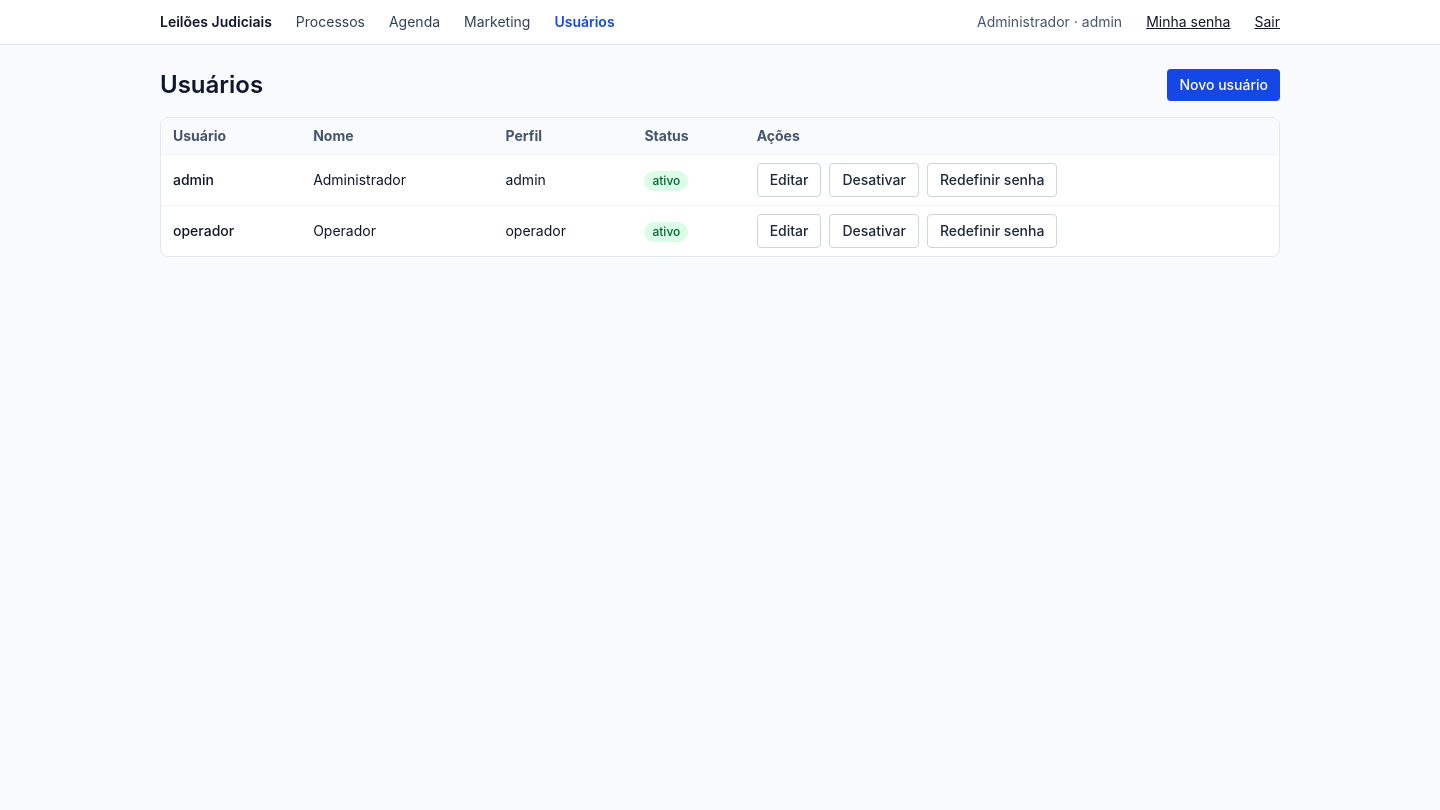
Test: UsuariosPage › senha curta bloqueia o submit do novo usuário
Click the button "Novo usuário": x=1224, y=85 [1167,69,1280,101]
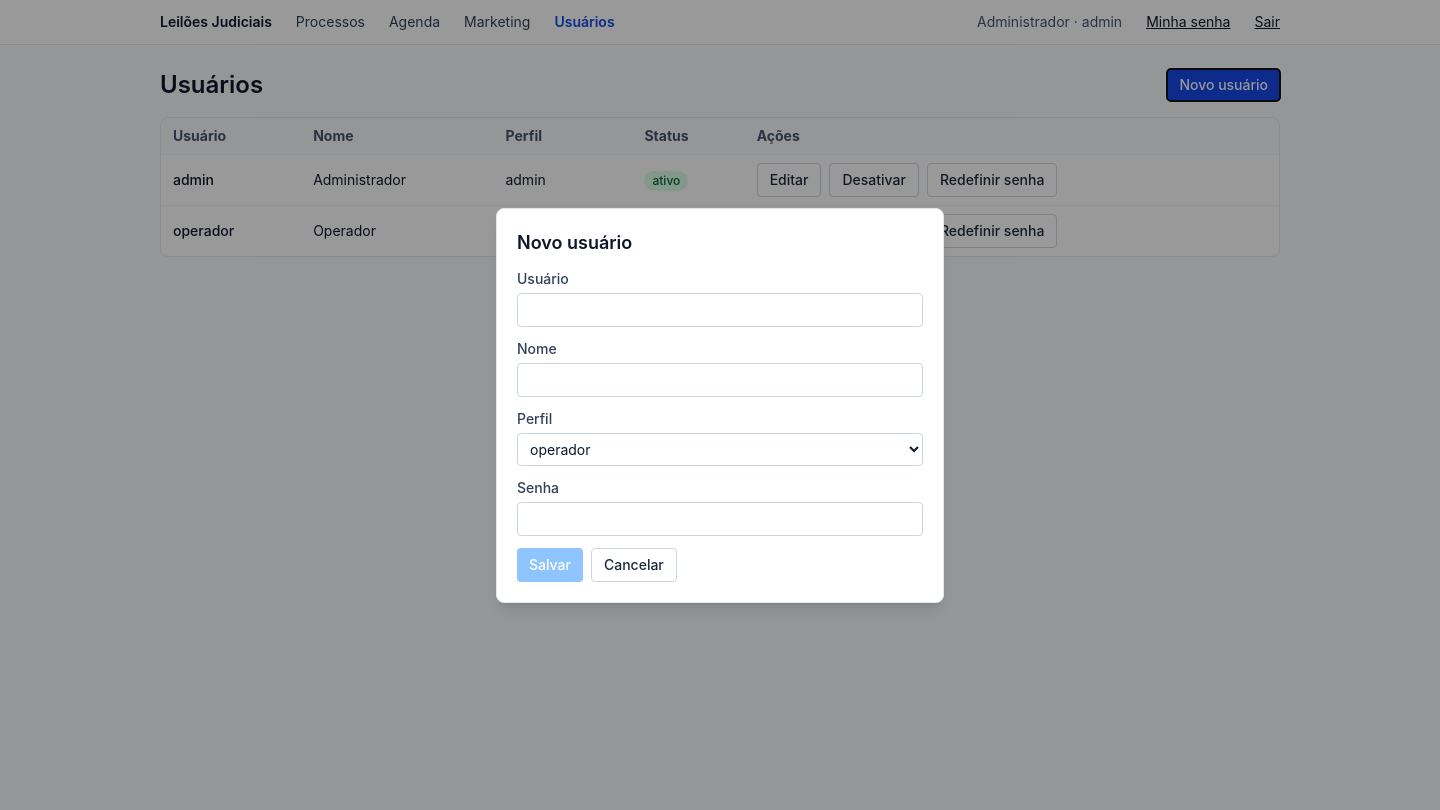
In the field labelled "Usuário": x=720, y=310 [517,292,923,326], type "joao"
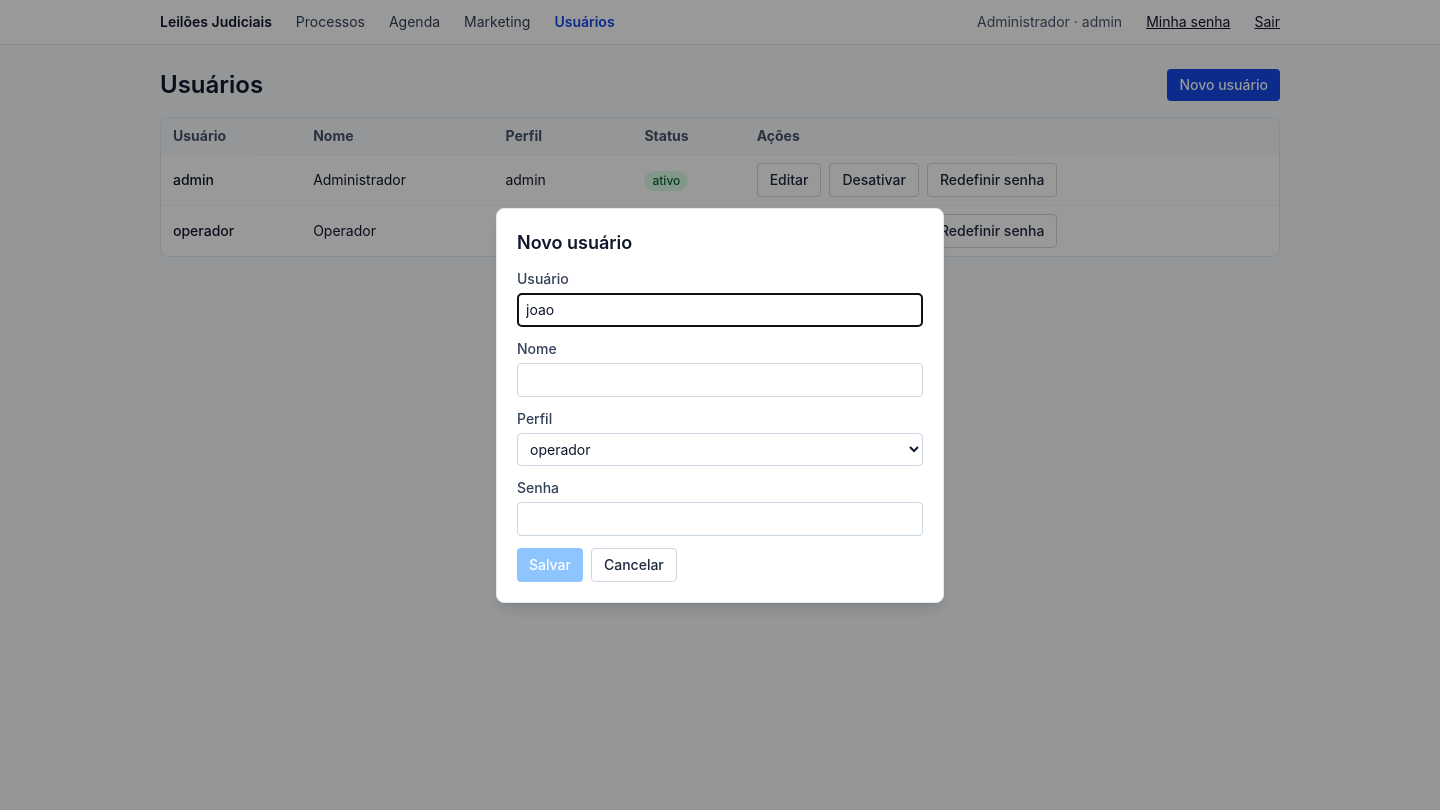
In the field labelled "Nome": x=720, y=380 [517,362,923,396], type "João"
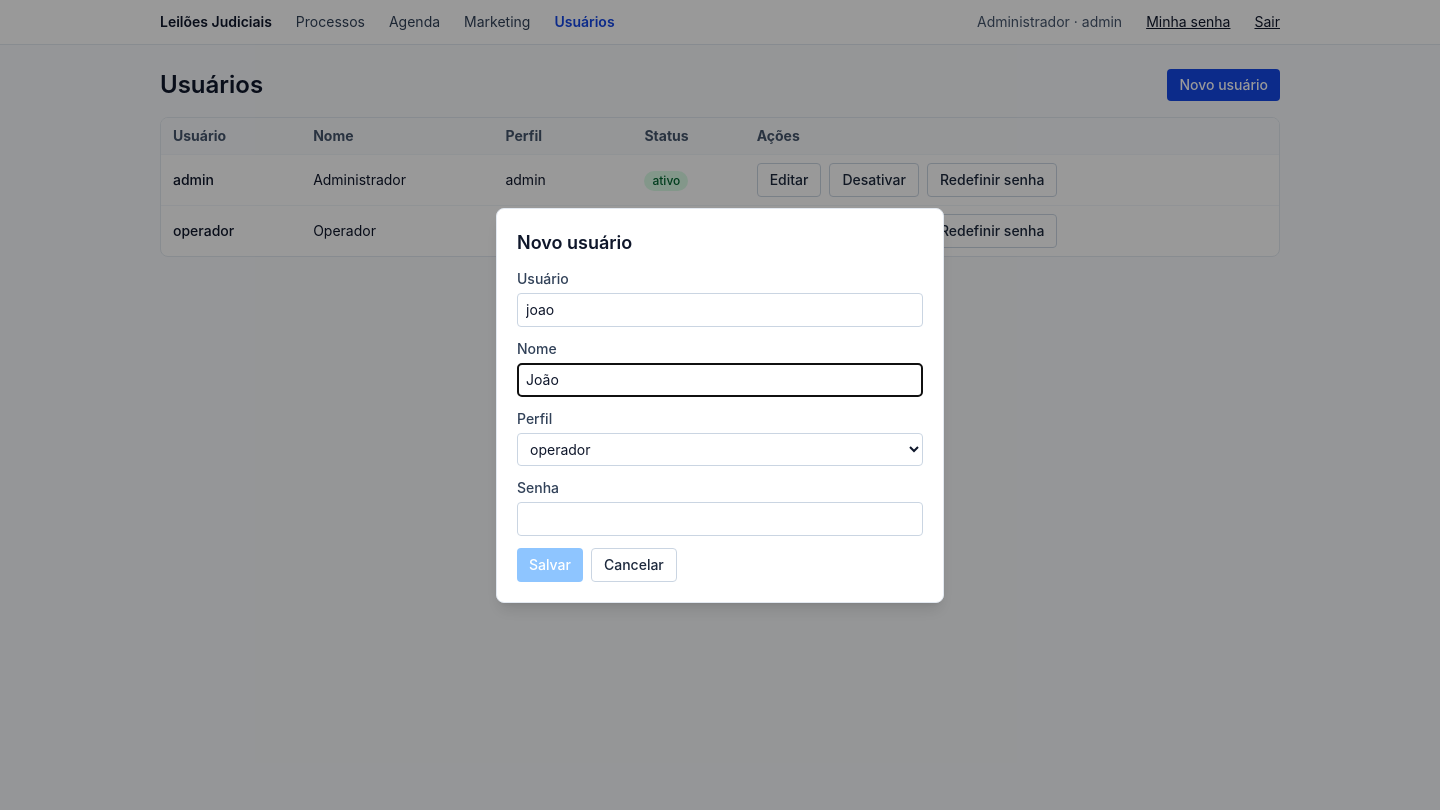
In the password field labelled "Senha": x=720, y=518 [517,502,923,536], type "curta"
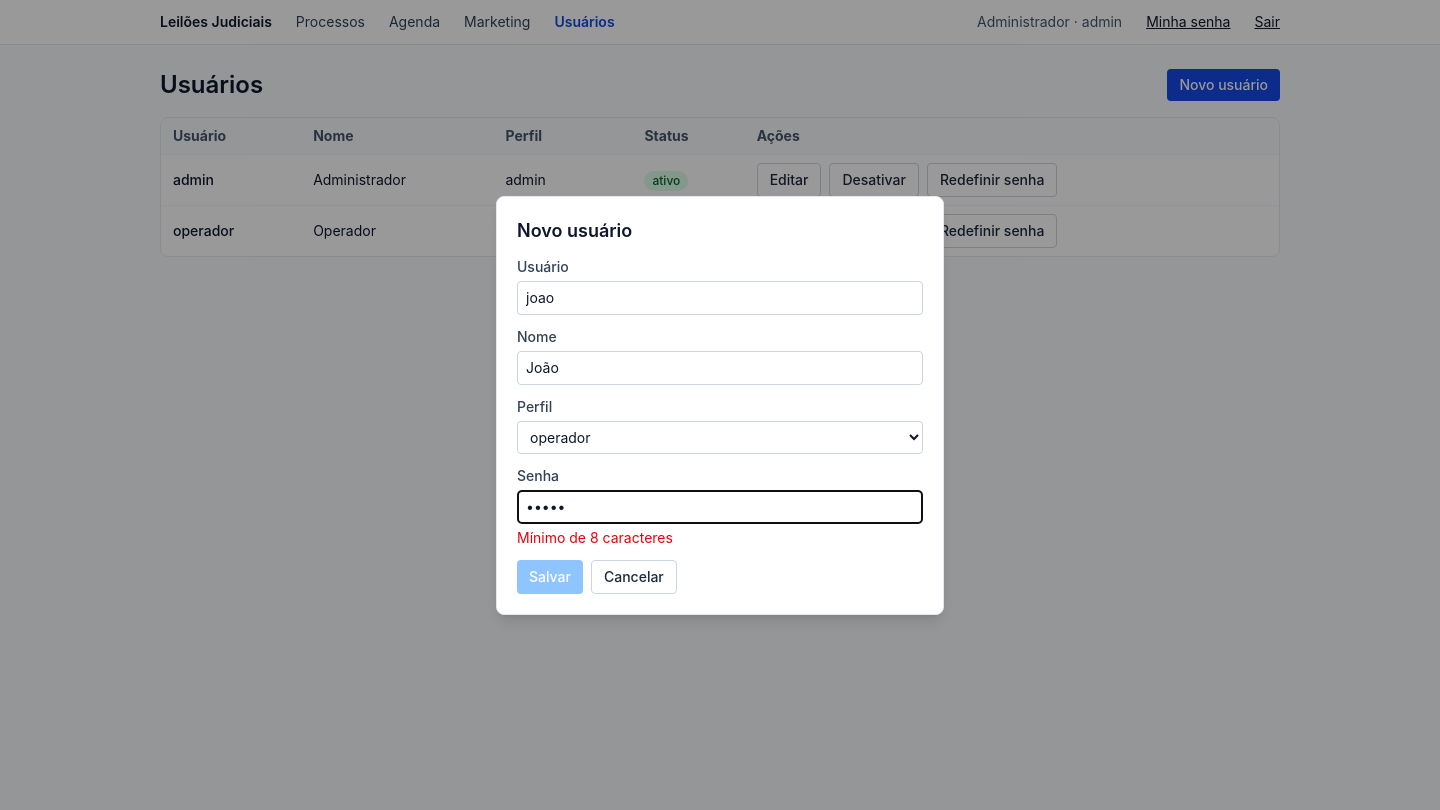
Now the button "Salvar" is disabled, box [517,560,583,594]
Now the text "Mínimo de 8 caracteres" is shown, box [517,528,673,546]
